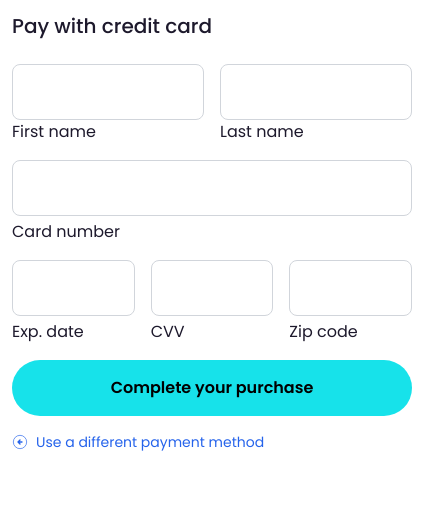
Test: CreditCardForm › form validation › shows validation error when submitting with empty regular fields
Click the button "Complete your purchase" at (212, 388), box [12,360,412,416]
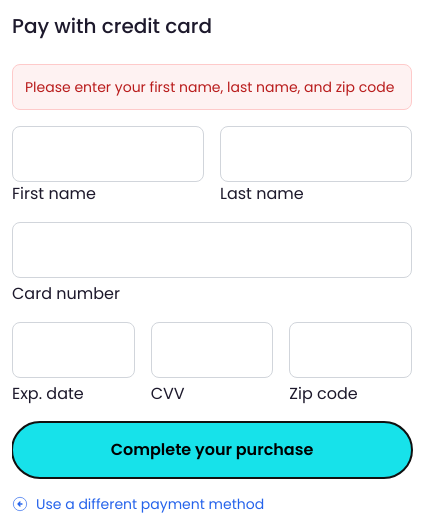
Expected: the text "Please enter your first name, last name, and zip code" is shown, [25,77,399,97]
